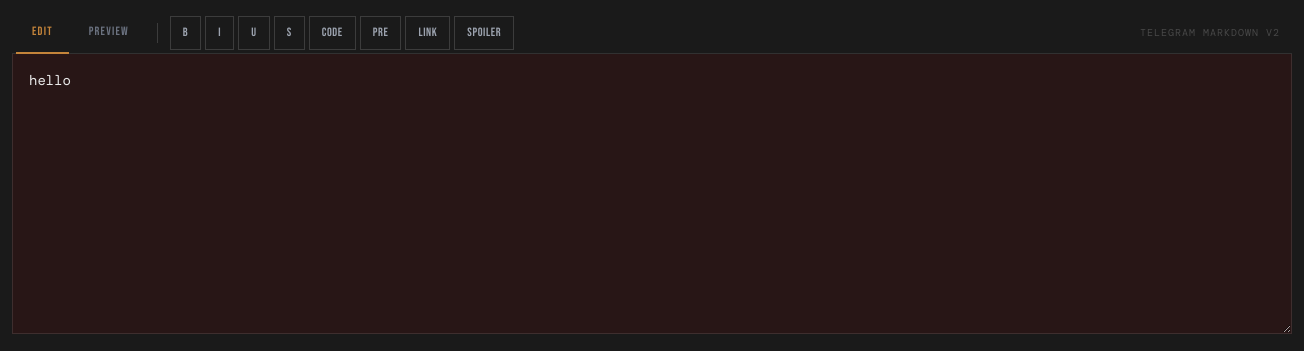
Test case: PublicationEditor — EDIT / PREVIEW toggle › switches back to EDIT mode when the EDIT button is clicked from PREVIEW
The width and height of the screenshot is (1304, 351).
Click the button "PREVIEW". click: (109, 33)
box: [73,12,145,54]
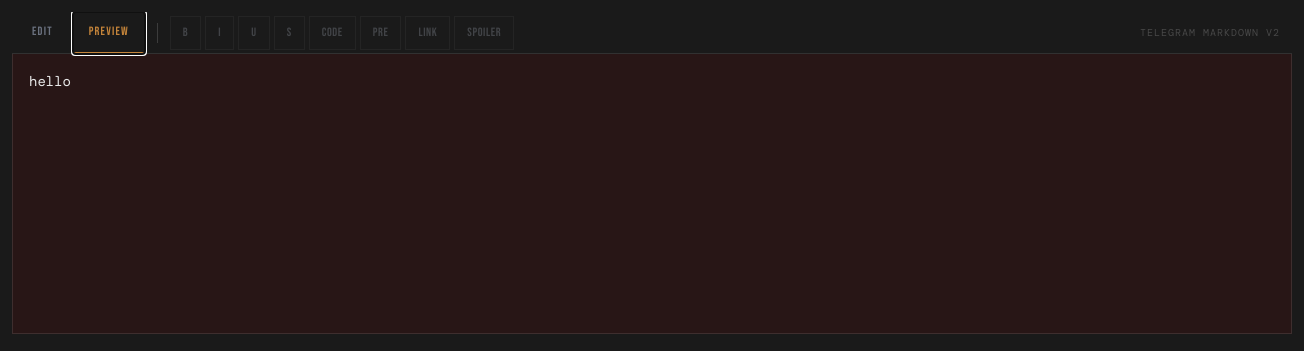
Click the button "EDIT". click: (42, 33)
box: [16,12,69,54]
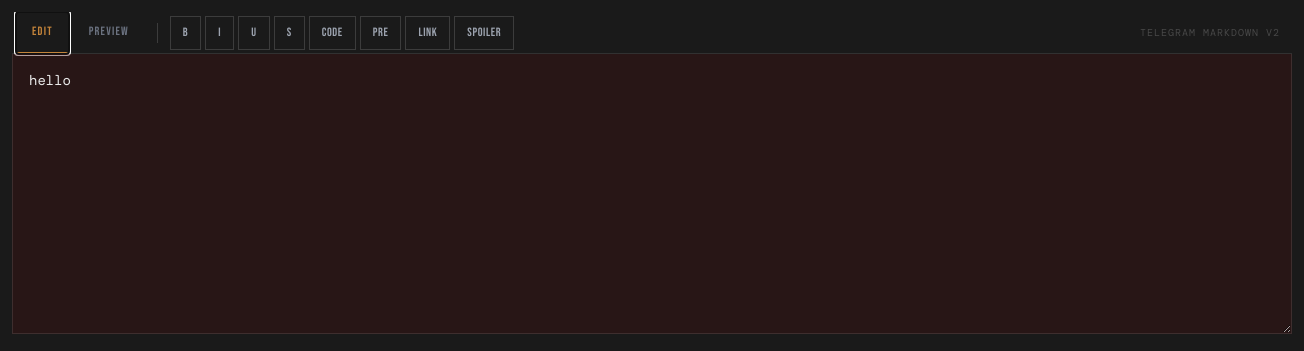
Now the text box is shown
